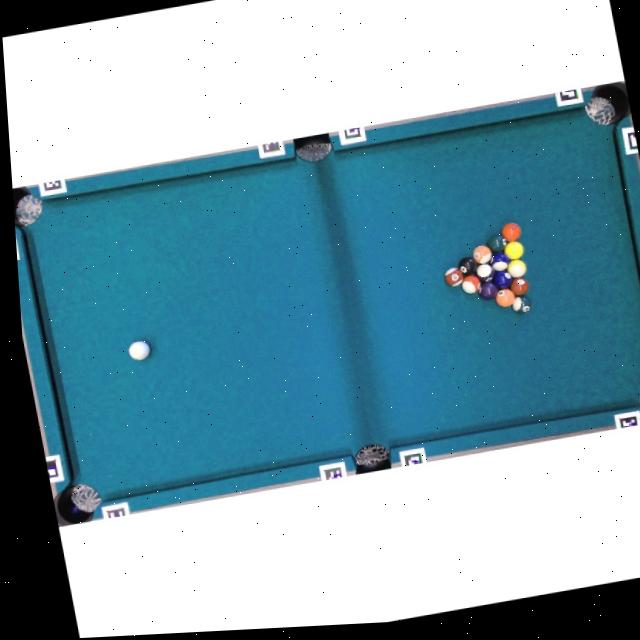cue ball: (126, 337, 152, 362)
other: (470, 243, 493, 266), (491, 268, 514, 291), (499, 221, 523, 243), (509, 275, 532, 297), (485, 232, 508, 254), (442, 266, 465, 288), (476, 280, 500, 301), (460, 274, 482, 296), (456, 255, 478, 277), (494, 286, 516, 308), (505, 258, 528, 279), (503, 240, 525, 261), (489, 251, 511, 272), (511, 294, 532, 314), (474, 260, 495, 280)
